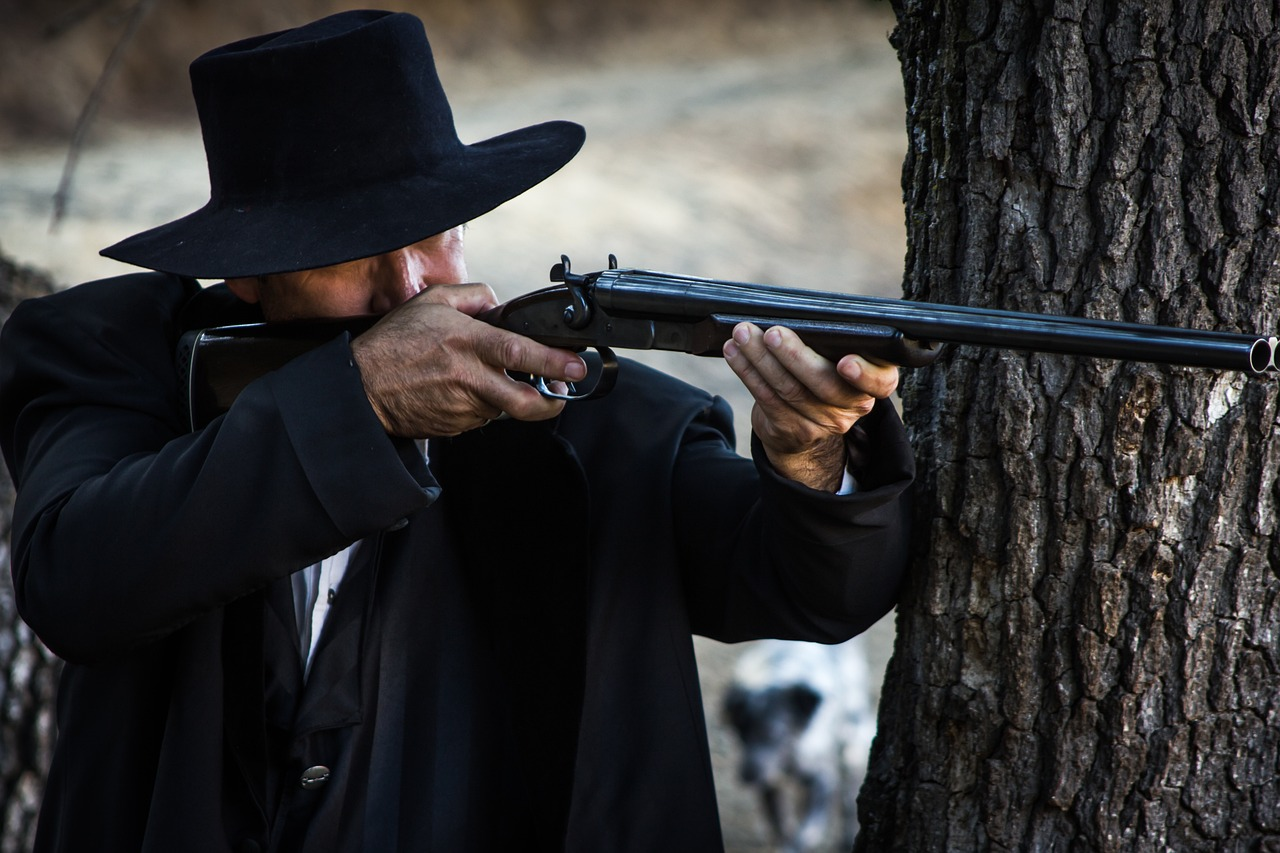gun: (161, 249, 1279, 441)
